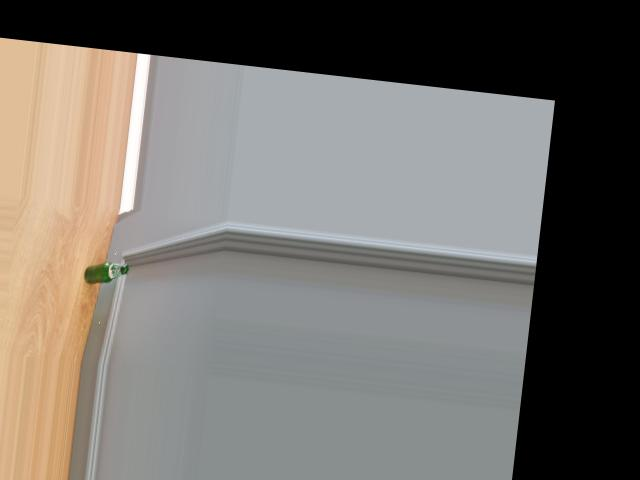beer: (83, 260, 128, 287)
